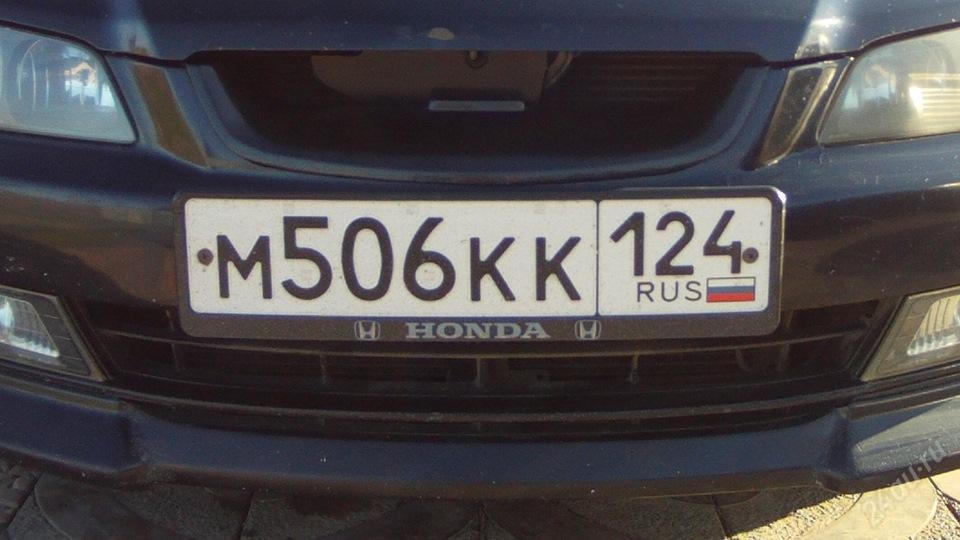license-plateSW: (182, 193, 788, 320)
